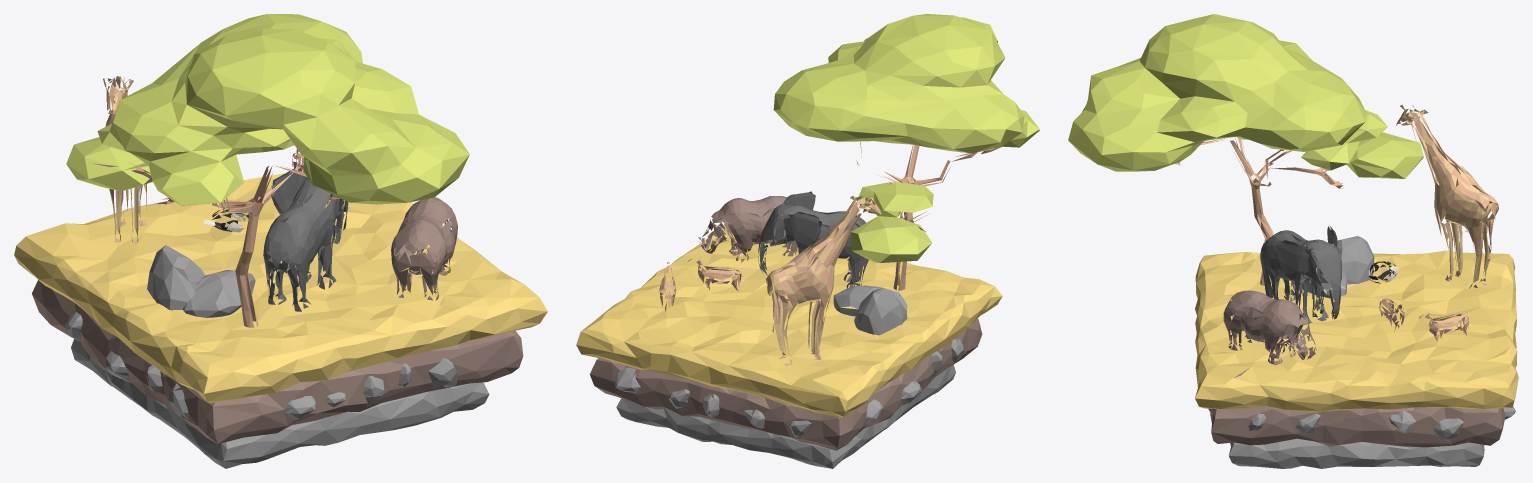
The model's file is low-poly-animals-4e5d0b.glb.
3 renders of one model, left to right at view 1: azimuth 30°, elevation 25°; view 2: azimuth 150°, elevation 25°; view 3: azimuth 270°, elevation 25°, orthographic. The views are drawn at different scales.
Visible parts, largest first — view 1: PropMesh; view 2: PropMesh; view 3: PropMesh.
Boxes of the visible parts, box(x1,y1,x2,y2) form: PropMesh: box(14, 14, 547, 468); PropMesh: box(576, 14, 1039, 468); PropMesh: box(1068, 14, 1518, 468).
Size of the model in its own units: 0.6697 by 0.7 by 0.8086.
Materials: 7 (6 with a texture image).
